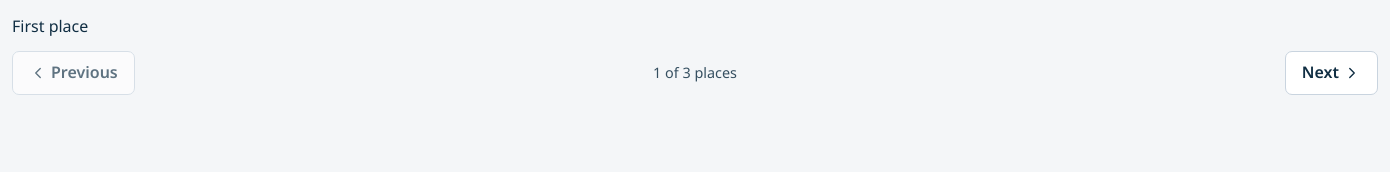
Test: shows one card at a time with an indicator and boundary-aware controls
The image size is (1390, 172).
Check: the text "1 of 3 places" is shown, box [653,62,737,84]
Check: the button with aria-label "Previous place" is disabled, box [12,51,135,95]
Click the button with aria-label "Next place" at [1331, 73], box [1285,51,1378,95]
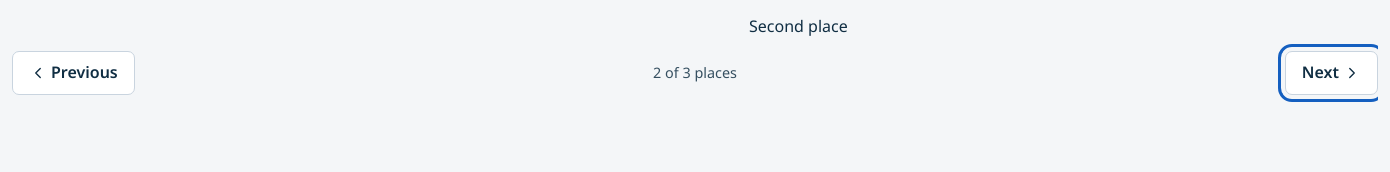
Check: the text "2 of 3 places" is shown, box [653,62,737,84]
Check: the button with aria-label "Previous place" is enabled, box [12,51,135,95]
Click the button with aria-label "Next place" at [1331, 73], box [1285,51,1378,95]
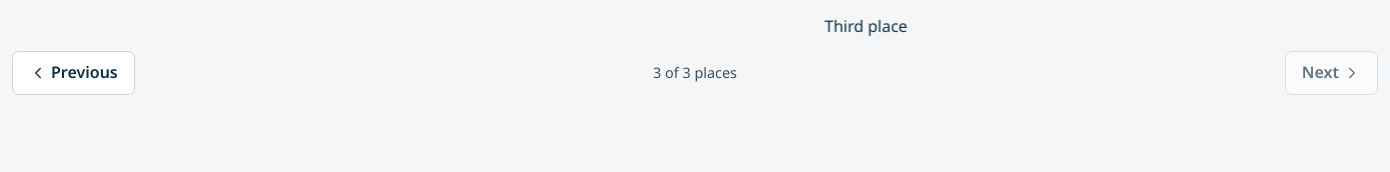
Check: the text "3 of 3 places" is shown, box [653,62,737,84]
Check: the button with aria-label "Next place" is disabled, box [1285,51,1378,95]
Click the button with aria-label "Previous place" at [73, 73], box [12,51,135,95]
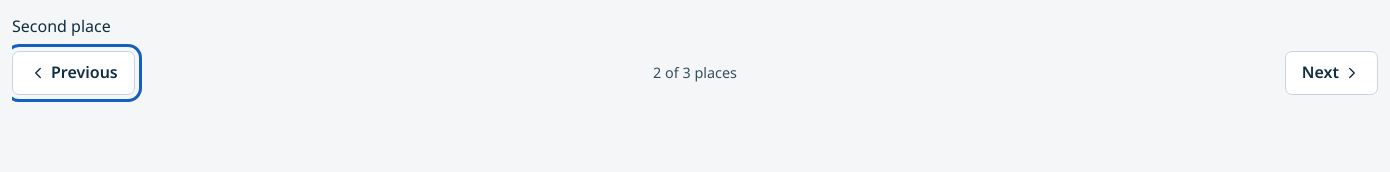
Check: the text "2 of 3 places" is shown, box [653,62,737,84]
